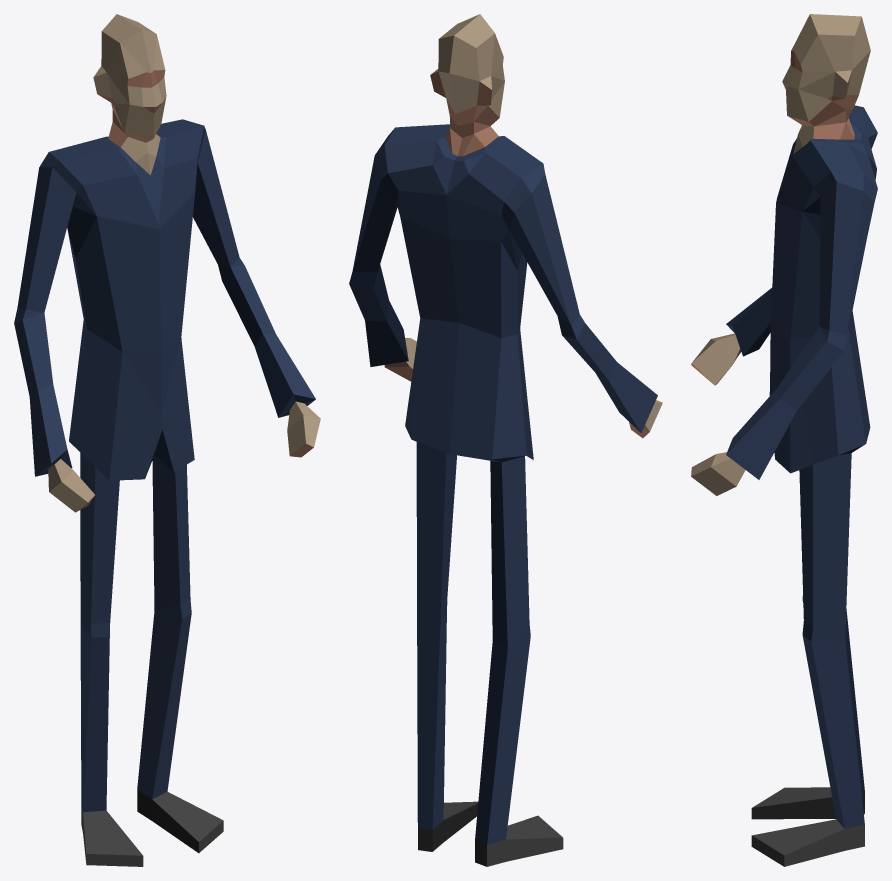
Rendered from character_male_suit.FBX.
3 renders of one model, left to right at view 1: azimuth 30°, elevation 25°; view 2: azimuth 150°, elevation 25°; view 3: azimuth 270°, elevation 25°, orthographic. The views are drawn at different scales.
Parts seen in each view (by area): view 1: Plane002; view 2: Plane002; view 3: Plane002.
Part boxes in pixels (<box>): Plane002: <box>14,14,320,866</box>; Plane002: <box>349,14,662,866</box>; Plane002: <box>691,14,877,866</box>.
Size of the model in its own units: 66.07 by 193 by 39.89.
1 material, 1 textured.
